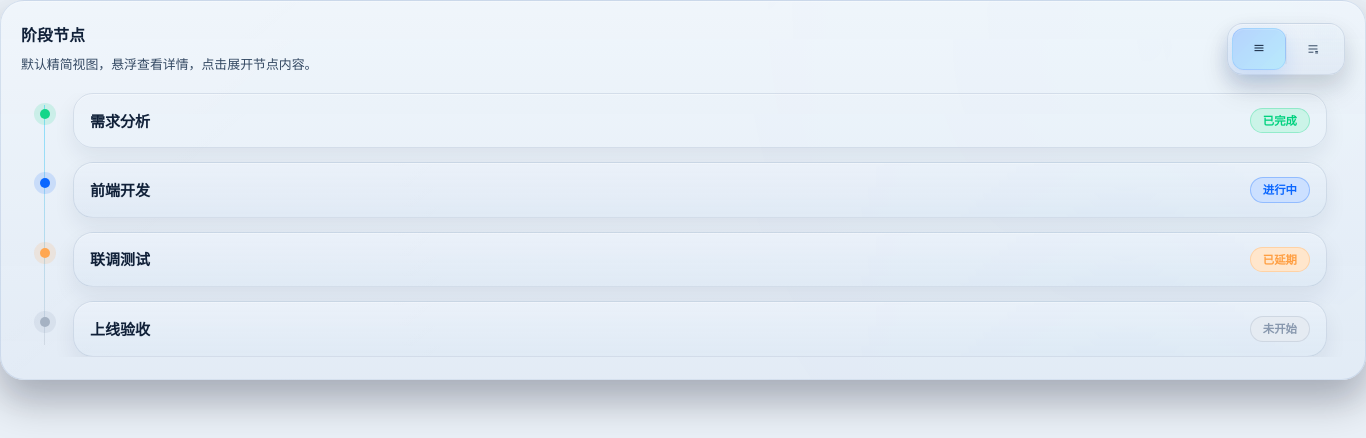
Scenario: NodeRail › shows a hover detail card as a fixed top-layer overlay on the right side of the hovered node
Hover over the button with test id "node-item-2002": x=120, y=189 [73,162,1327,218]
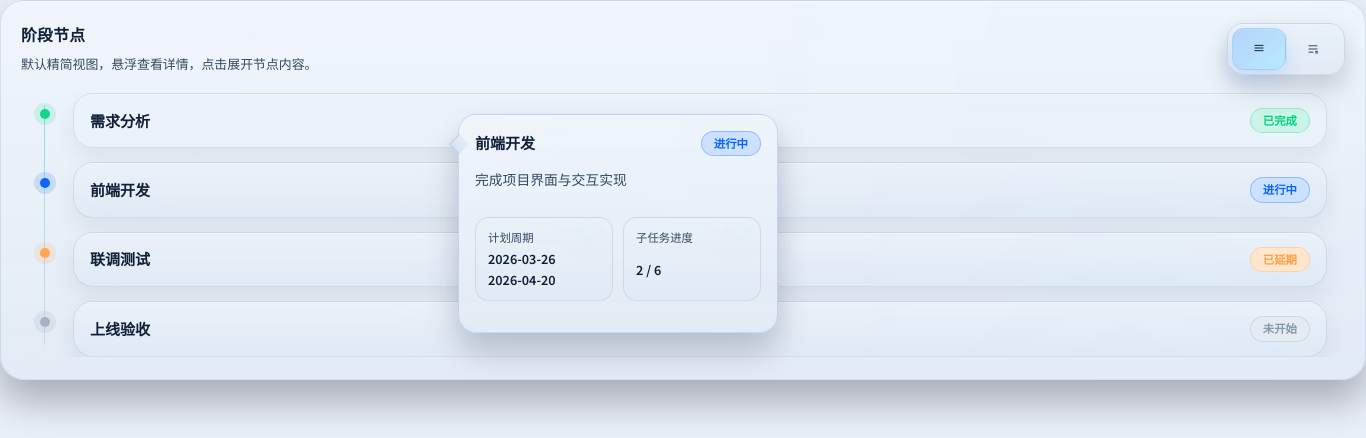
Now the element with test id "node-hover-card" is shown, box [458,114,778,333]
Now the element with test id "node-hover-card" shows "完成项目界面与交互实现", box [475,169,627,189]
